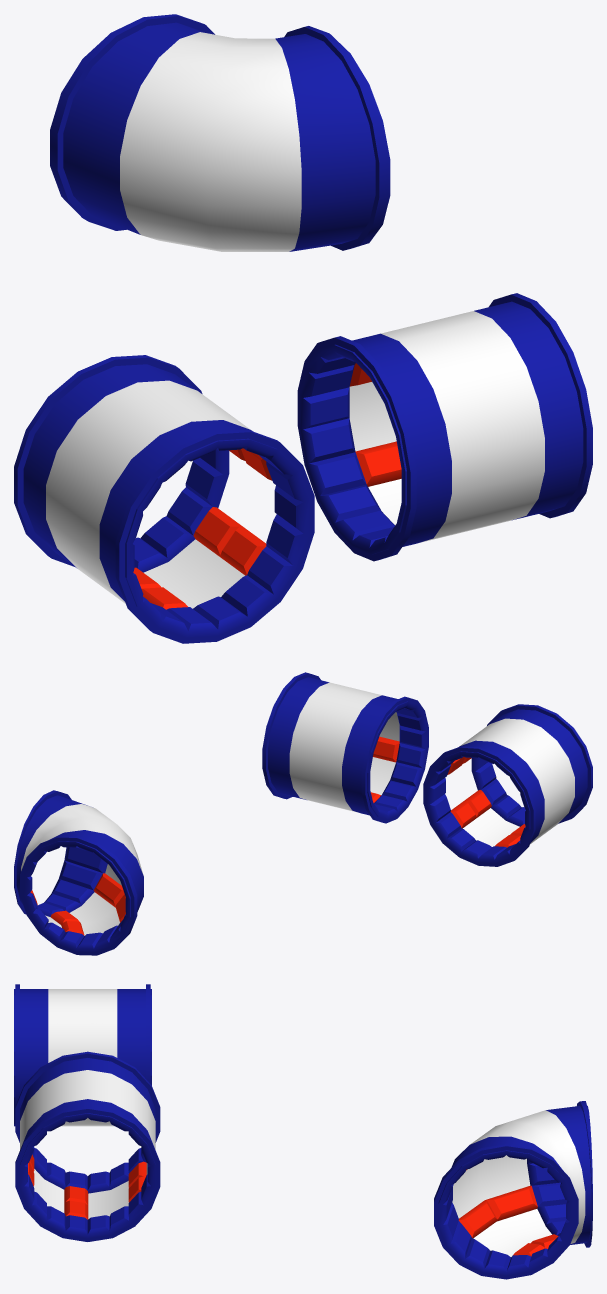
The model's file is pipes.FBX.
3 renders of one model, top to bottom at view 1: azimuth 30°, elevation 25°; view 2: azimuth 150°, elevation 25°; view 3: azimuth 270°, elevation 25°, orthographic. The views are drawn at different scales.
Visible parts, largest first — view 1: Tube002, Tube001, Tube003; view 2: Tube001, Tube003, Tube002; view 3: Tube002, Tube001, Tube003.
Part boxes in pixels (bbox=[...]): Tube002: bbox=[50, 14, 390, 251]; Tube001: bbox=[297, 293, 592, 561]; Tube003: bbox=[14, 355, 314, 643]; Tube001: bbox=[262, 672, 428, 823]; Tube003: bbox=[423, 704, 592, 866]; Tube002: bbox=[14, 790, 143, 955]; Tube002: bbox=[434, 1101, 592, 1279]; Tube001: bbox=[15, 1051, 160, 1241]; Tube003: bbox=[14, 984, 151, 1126].
Bounding box in the file's own units: 484 × 160 × 630.
